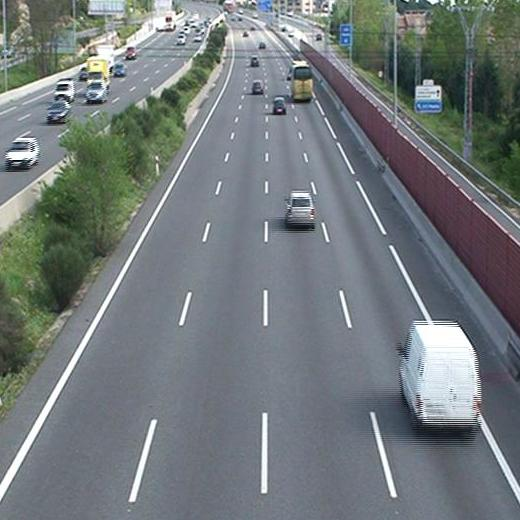bus: (287, 60, 314, 101)
car: (284, 191, 317, 226), (271, 96, 287, 113), (251, 80, 265, 94), (250, 56, 260, 68)
van: (397, 320, 483, 433)
